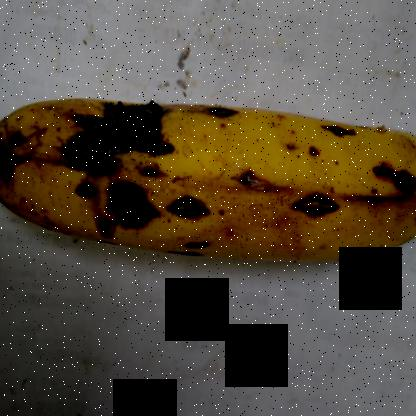rotten: (63, 85, 168, 243), (1, 88, 38, 240), (362, 137, 415, 227), (196, 73, 251, 137), (316, 97, 378, 147), (289, 178, 345, 230), (181, 171, 219, 236), (232, 157, 280, 203)
